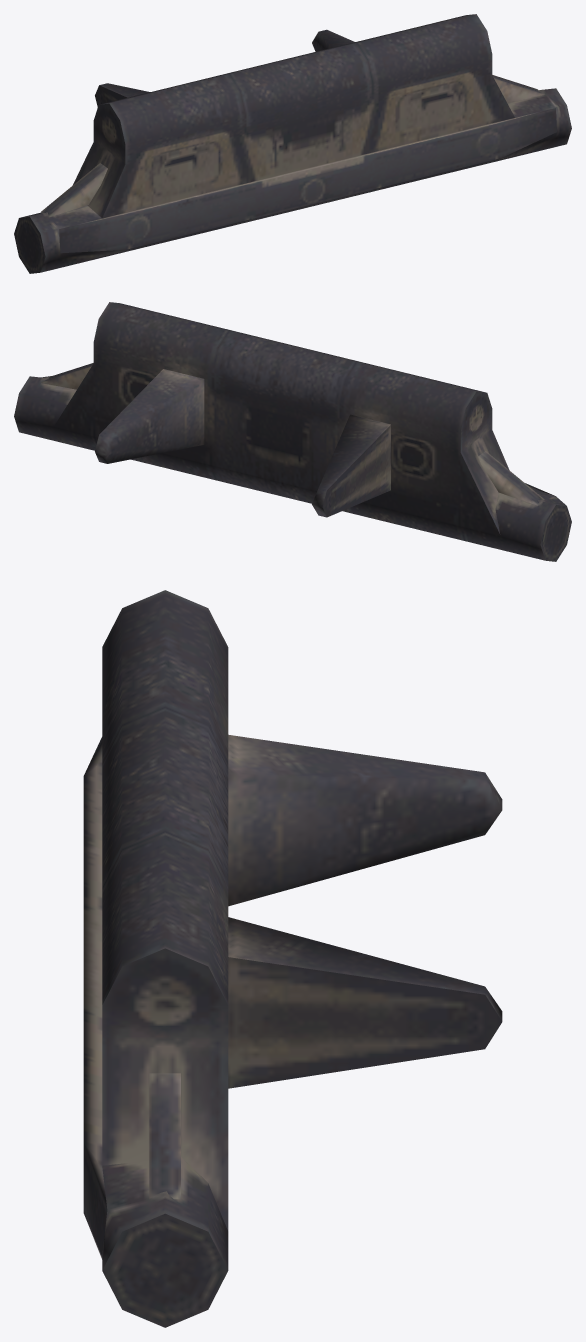
3 views of the same model, one above another, from view 1: azimuth 30°, elevation 25°; view 2: azimuth 150°, elevation 25°; view 3: azimuth 270°, elevation 25° (orthographic). The views are drawn at different scales.
Visible parts, largest first — view 1: set_0_group_0; view 2: set_0_group_0; view 3: set_0_group_0.
Part boxes in pixels (x1,y1,x2,y2): set_0_group_0: (14,14,571,273); set_0_group_0: (14,302,571,561); set_0_group_0: (83,590,502,1327).
Bounding box in the file's own units: 0.241 × 0.066 × 0.083.
1 material, 1 textured.
